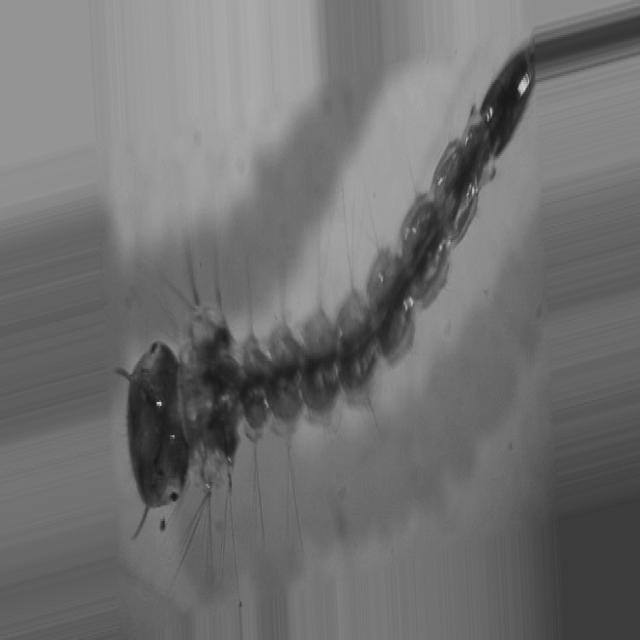larvas: (131, 68, 533, 509)
